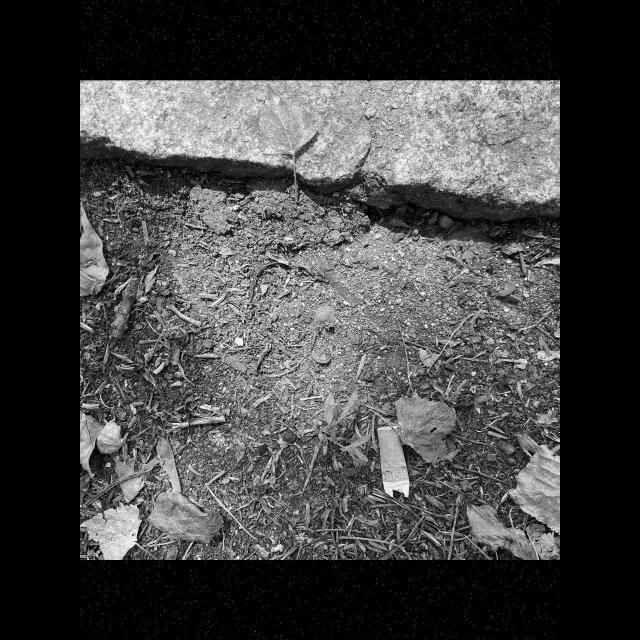cigarette: (376, 424, 410, 498)
